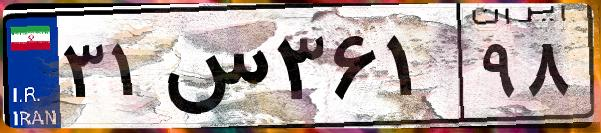1: (385, 28, 445, 110), (110, 28, 158, 98)
3: (270, 28, 330, 110), (57, 26, 110, 100)
6: (330, 28, 385, 110)
8: (525, 38, 570, 115)
9: (475, 38, 525, 113)
س: (158, 20, 270, 120)
